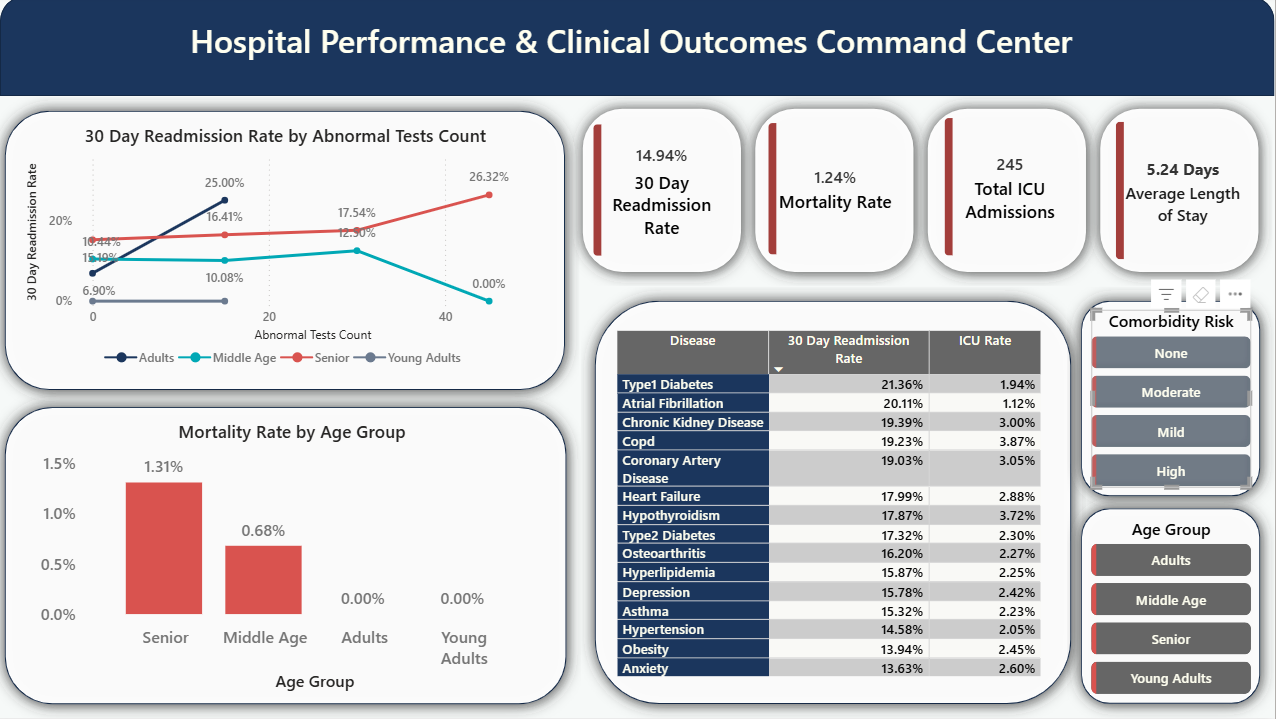

The dashboard page shown, as its layout file describes it:
{"tool":"powerbi","page":{"name":"Clinical Risk & Readmission Dynamics","canvas":[1280,720],"ordinal":1},"visuals":[{"type":"shape","box":[576.6,98.4,185.6,190.5],"z":0},{"type":"shape","box":[748.5,98.4,185.6,190.5],"z":1000},{"type":"shape","box":[920.3,98.4,185.6,190.5],"z":2000},{"type":"shape","box":[1092.2,98.4,185.6,190.5],"z":3000},{"type":"shape","box":[588,288.8,504.7,431.7],"z":4000},{"type":"shape","box":[0,394.5,589.5,326],"z":5000},{"type":"shape","box":[0,99.7,588,308.2],"z":6000},{"type":"shape","box":[10.4,0,1269.9,99.7],"z":7000},{"type":"cardVisual","fields":{"Data":["Sum(vw_fact_outcomes.icu_admission)"]},"box":[950.2,120.8,132,139.5],"z":7000},{"type":"textbox","box":[174.3,17.8,929,67.2],"z":8000},{"type":"cardVisual","fields":{"Data":["vw_fact_outcomes.Average Length of Stay"]},"box":[1120.8,124.5,135.7,139.5],"z":8000},{"type":"cardVisual","fields":{"Data":["vw_fact_outcomes.Averge Readmission Rate"]},"box":[600.3,127,138.2,133.3],"z":9000},{"type":"shape","box":[1071.9,288.8,208.4,224.8],"z":9000},{"type":"listSlicer","fields":{"Values":["vw_dim_patients.risk_severity"]},"box":[1097.2,312.6,159.3,178.6],"z":10000},{"type":"clusteredColumnChart","title":"Mortality Rate by Age Group","fields":{"Category":["vw_dim_patients.age_group"],"Y":["vw_fact_outcomes.Mortality Rate"]},"box":[44.7,422.8,512.1,275.4],"z":11000},{"type":"lineChart","title":"30 Day Readmission Rate by Abnormal Tests Count","fields":{"Category":["vw_fact_lab_summaries.abnormal_tests (bins)"],"Y":["vw_fact_outcomes.30 Day Readmission Rate"],"Series":["vw_dim_patients.age_group"]},"box":[32.8,126.5,524,251.6],"z":12000},{"type":"cardVisual","fields":{"Data":["vw_fact_outcomes.Mortality Rate"]},"box":[774.6,125.8,135.7,133.3],"z":13000},{"type":"pivotTable","fields":{"Rows":["vw_fact_diagnoses.primary_diagnosis"],"Values":["vw_fact_outcomes.30 Day Readmission Rate","vw_fact_outcomes.ICU Rate"]},"box":[620.8,329,439.2,381.1],"z":14000},{"type":"shape","box":[1071.9,495.7,208.4,224.8],"z":15000},{"type":"listSlicer","fields":{"Values":["vw_dim_patients.age_group"]},"box":[1097.2,519.6,159.3,178.6],"z":16000}]}

Visuals, with their boxes in screenshot pixels (x1, y1, x2, y2), scaled from the page's 1280x720 canvas onto the 1276x719 screenshot:
shape: x1=575 y1=98 x2=760 y2=288
shape: x1=746 y1=98 x2=931 y2=288
shape: x1=917 y1=98 x2=1102 y2=288
shape: x1=1089 y1=98 x2=1274 y2=288
shape: x1=586 y1=288 x2=1089 y2=718
shape: x1=0 y1=394 x2=588 y2=718
shape: x1=0 y1=100 x2=586 y2=407
shape: x1=10 y1=0 x2=1275 y2=100
cardVisual - Sum(vw_fact_outcomes.icu_admission): x1=947 y1=121 x2=1079 y2=260
textbox: x1=174 y1=18 x2=1100 y2=85
cardVisual - vw_fact_outcomes.Average Length of Stay: x1=1117 y1=124 x2=1253 y2=264
cardVisual - vw_fact_outcomes.Averge Readmission Rate: x1=598 y1=127 x2=736 y2=260
shape: x1=1069 y1=288 x2=1275 y2=513
listSlicer - vw_dim_patients.risk_severity: x1=1094 y1=312 x2=1253 y2=491
"Mortality Rate by Age Group" clusteredColumnChart: x1=45 y1=422 x2=555 y2=697
"30 Day Readmission Rate by Abnormal Tests Count" lineChart: x1=33 y1=126 x2=555 y2=378
cardVisual - vw_fact_outcomes.Mortality Rate: x1=772 y1=126 x2=907 y2=259
pivotTable - vw_fact_diagnoses.primary_diagnosis x vw_fact_outcomes.30 Day Readmission Rate: x1=619 y1=329 x2=1057 y2=709
shape: x1=1069 y1=495 x2=1275 y2=718
listSlicer - vw_dim_patients.age_group: x1=1094 y1=519 x2=1253 y2=697
